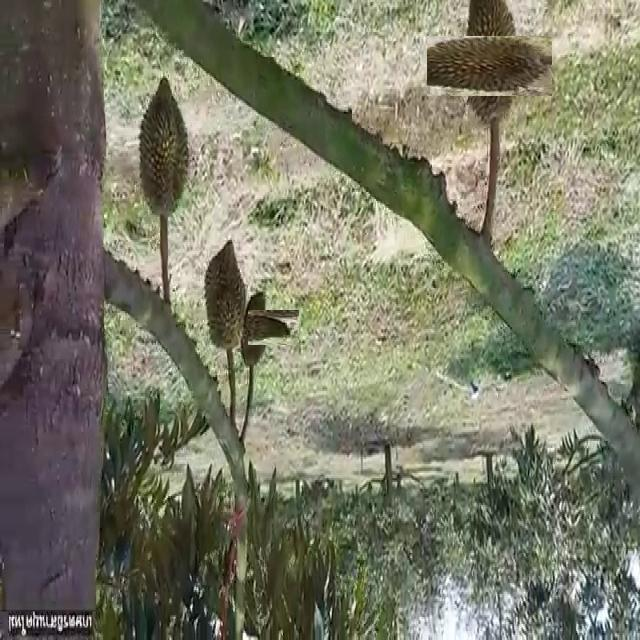durian: (135, 72, 193, 226), (443, 20, 536, 113), (202, 234, 248, 354), (225, 296, 286, 358)
